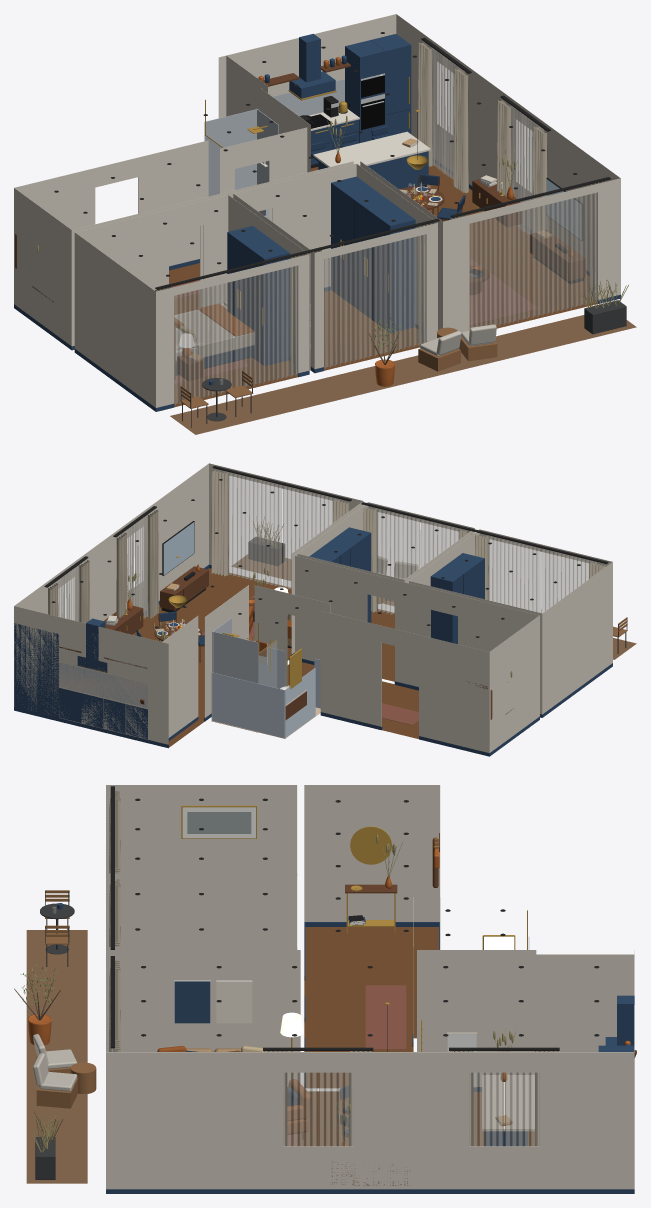
File: unit-1.C-lisboa.glb
3 views of the same model, one above another, from view 1: azimuth 30°, elevation 25°; view 2: azimuth 150°, elevation 25°; view 3: azimuth 270°, elevation 25° (orthographic). The views are drawn at different scales.
Parts seen in each view (by area): view 1: int-wall, int-sheer, int-joineryTall, int-floor, int-curtain, int-deck, int-joinery, int-wood, int-showerWall, int-matteBlack, int-rug, int-worktop (+12 smaller); view 2: int-wall, int-sheer, int-joineryTall, int-curtain, int-bathWall, int-joinery, int-floor, int-wood, int-showerWall, int-splash, int-matteBlack, int-hallFloor (+7 smaller); view 3: int-wall, int-hallFloor, int-deck, int-sheer, int-joinery, int-worktop, int-rug, int-curtain, int-floor, int-metal, int-teak, int-matteBlack (+11 smaller).
Part boxes in pixels (x1,y1,x2,y2): int-wall: (14, 14, 620, 407); int-sheer: (174, 47, 597, 404); int-joineryTall: (227, 34, 415, 365); int-floor: (174, 163, 597, 407); int-curtain: (155, 42, 606, 374); int-deck: (170, 315, 636, 434); int-joinery: (14, 33, 620, 411); int-wood: (32, 61, 585, 380); int-showerWall: (204, 108, 278, 215); int-matteBlack: (155, 37, 610, 289); int-rug: (169, 258, 538, 383); int-worktop: (259, 108, 430, 167); int-wall: (14, 463, 612, 752); int-sheer: (51, 472, 596, 621); int-joineryTall: (14, 527, 484, 721); int-curtain: (48, 470, 605, 623); int-bathWall: (211, 647, 320, 738); int-joinery: (14, 564, 612, 756); int-floor: (132, 568, 394, 747); int-wood: (59, 566, 513, 719); int-showerWall: (212, 618, 258, 721); int-splash: (59, 662, 147, 708); int-matteBlack: (44, 466, 608, 740); int-hallFloor: (287, 662, 418, 738); int-wall: (106, 785, 634, 1189); int-hallFloor: (304, 927, 438, 1088); int-deck: (26, 930, 87, 1183); int-sheer: (109, 798, 539, 1146); int-joinery: (106, 922, 634, 1193); int-worktop: (447, 1032, 534, 1131); int-rug: (287, 985, 406, 1145); int-curtain: (113, 790, 558, 1146); int-floor: (298, 1091, 534, 1146); int-metal: (181, 805, 527, 1078); int-teak: (36, 890, 96, 1108); int-matteBlack: (110, 786, 559, 1050).
Bounding box in the file's own units: 10.9 × 2.8 × 10.71.
